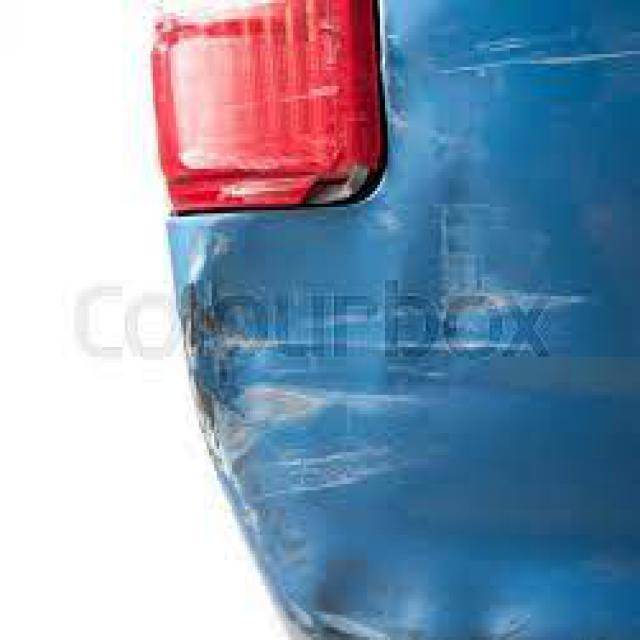rear-bumper-dent: (141, 0, 638, 637)
